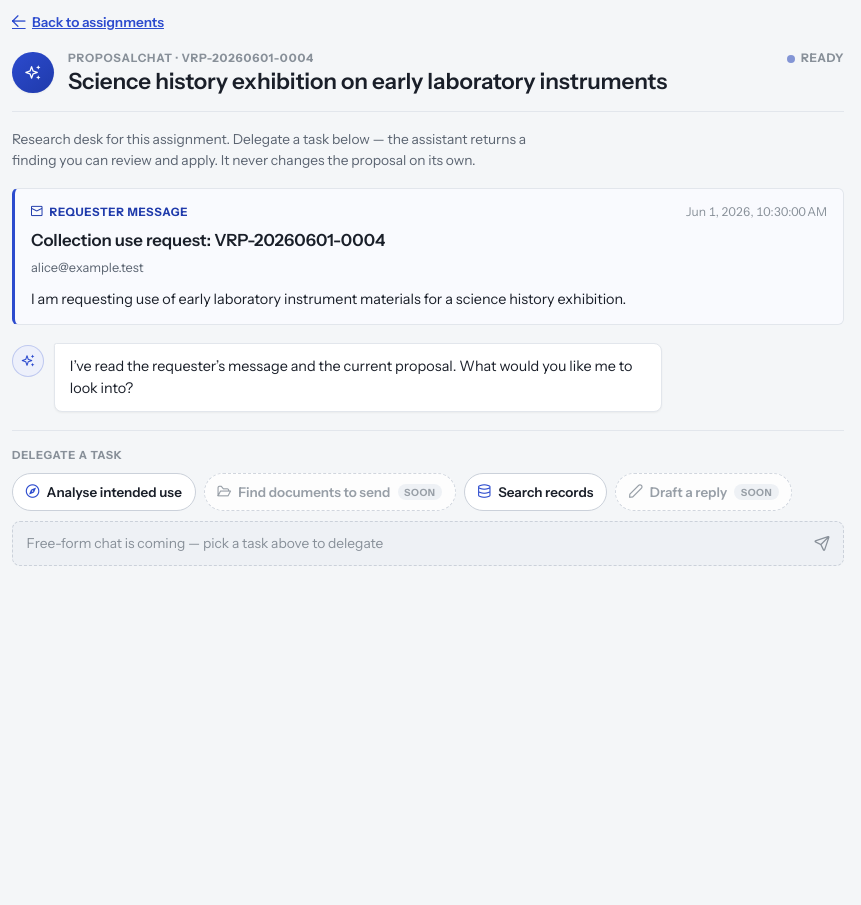
Scenario: ProposalChatPanelComponent › applies a suggestion through the proposal API
The image size is (861, 905).
Click the button "Analyse intended use": (104, 492) top-left (12, 473), bottom-right (196, 511)
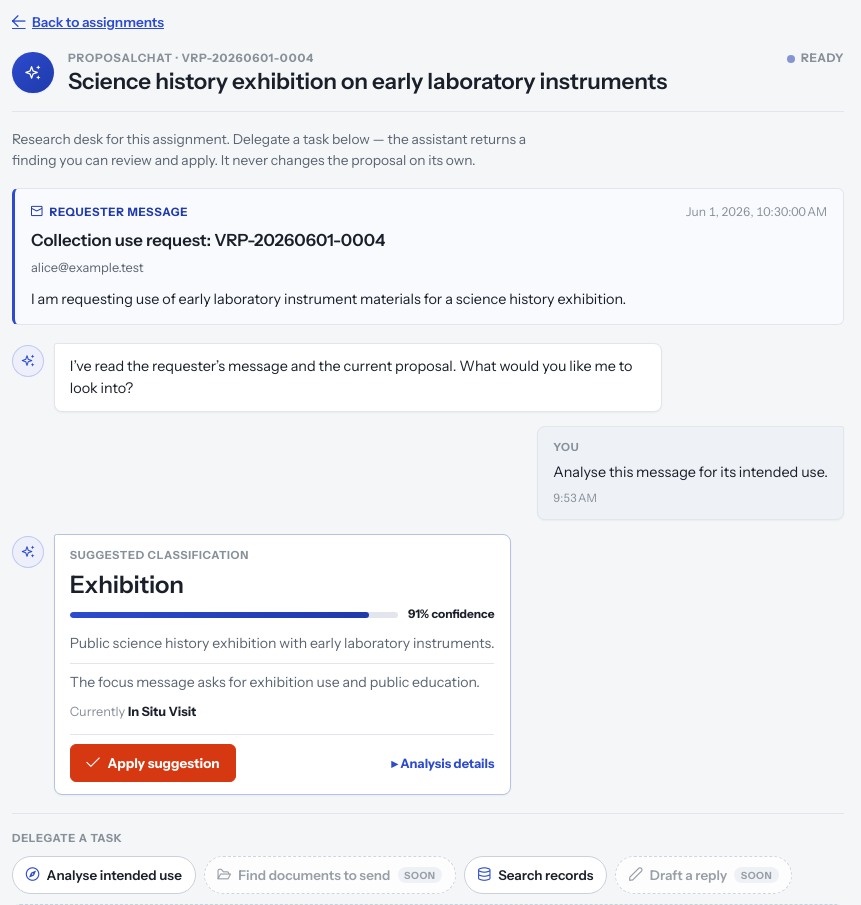
Click the button with class "agent-apply": (153, 763) top-left (70, 744), bottom-right (236, 782)
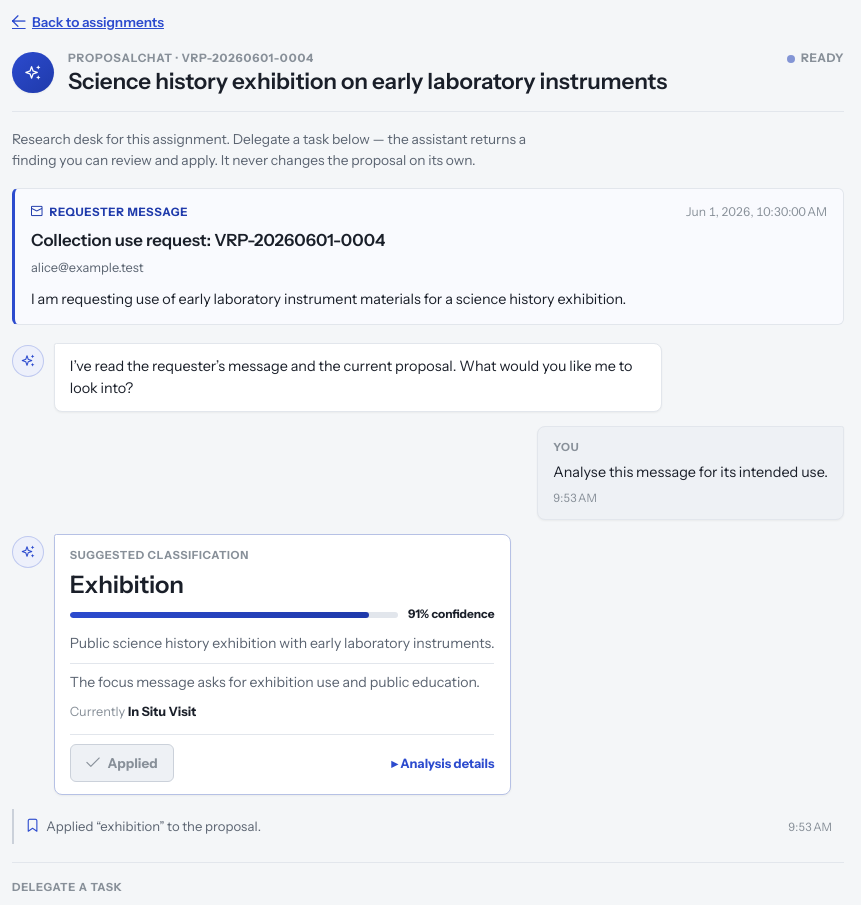
Result: the text "Applied" is shown at top-left (70, 744), bottom-right (174, 782)
